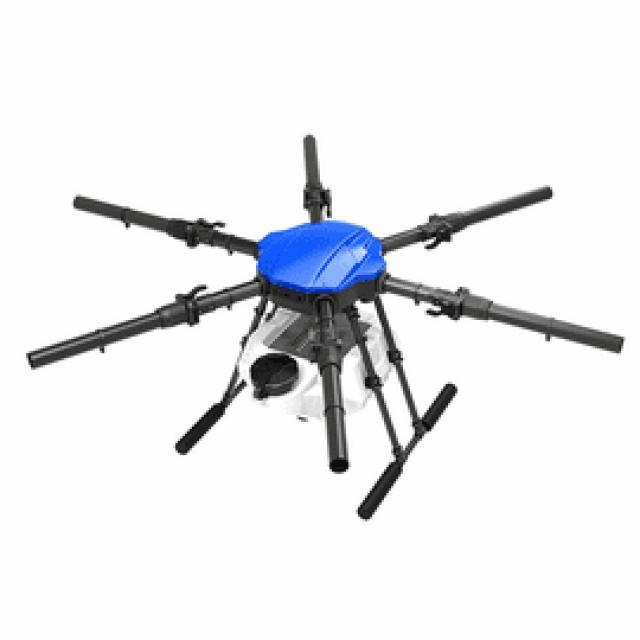drone: (15, 104, 632, 522)
